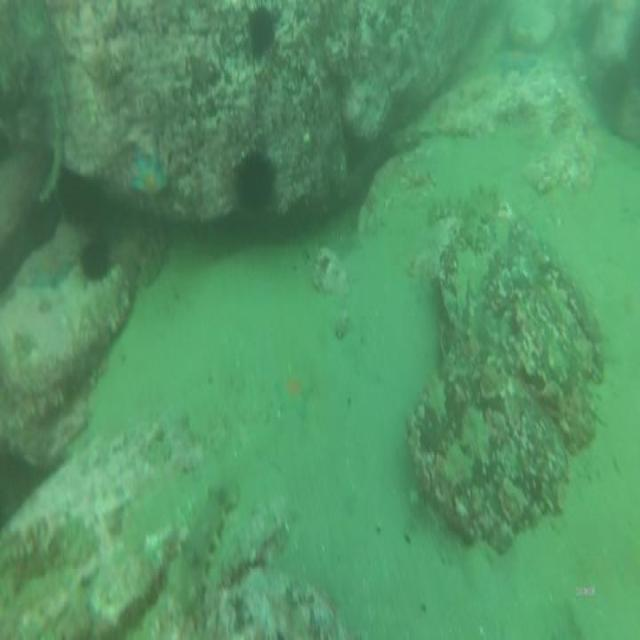echinus: (228, 144, 282, 218), (245, 2, 280, 68), (77, 232, 115, 284)
holothurian: (173, 480, 240, 640), (461, 191, 499, 248), (426, 193, 470, 223)
starfish: (27, 248, 74, 296), (130, 152, 170, 207), (274, 365, 314, 420), (498, 43, 538, 82)
